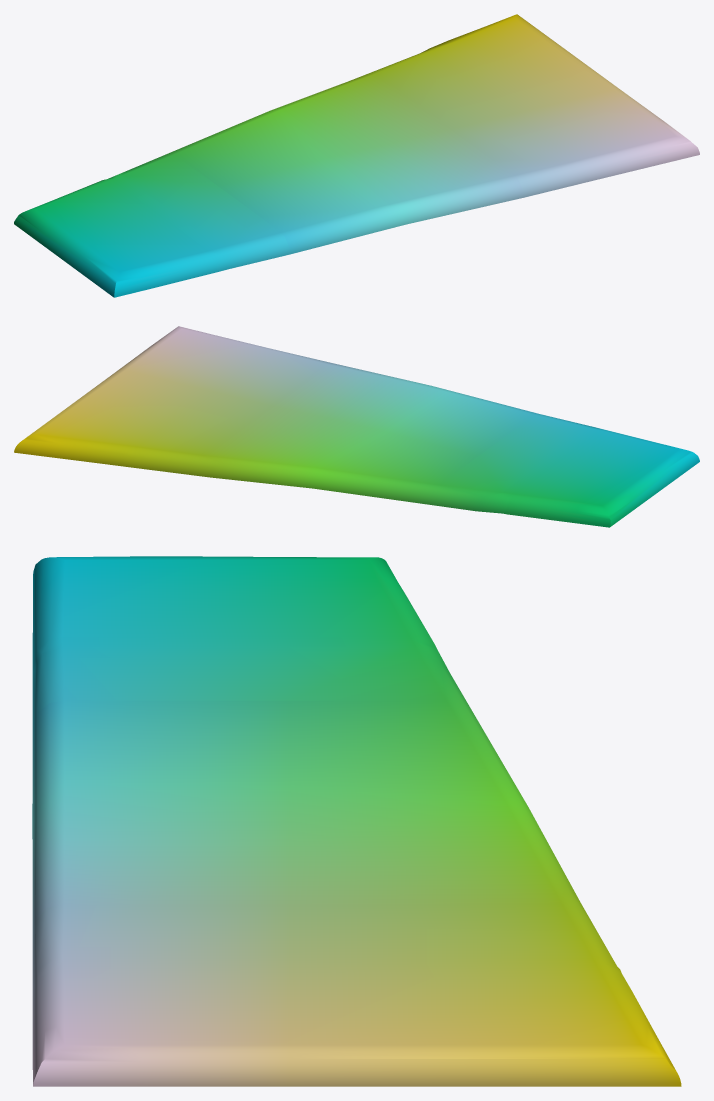
The model's file is SM_ROAD_19_5_13_19_buffer.FBX.
3 views of the same model, one above another, from view 1: azimuth 30°, elevation 25°; view 2: azimuth 150°, elevation 25°; view 3: azimuth 270°, elevation 25° (orthographic). The views are drawn at different scales.
Parts seen in each view (by area): view 1: SM_ROAD_19_5_13_19_buffer; view 2: SM_ROAD_19_5_13_19_buffer; view 3: SM_ROAD_19_5_13_19_buffer.
Boxes of the visible parts, <box> form: SM_ROAD_19_5_13_19_buffer: <box>14,14,699,297</box>; SM_ROAD_19_5_13_19_buffer: <box>14,326,699,527</box>; SM_ROAD_19_5_13_19_buffer: <box>32,556,681,1086</box>.
Size of the model in its own units: 2005 by 1075 by 59.94.
